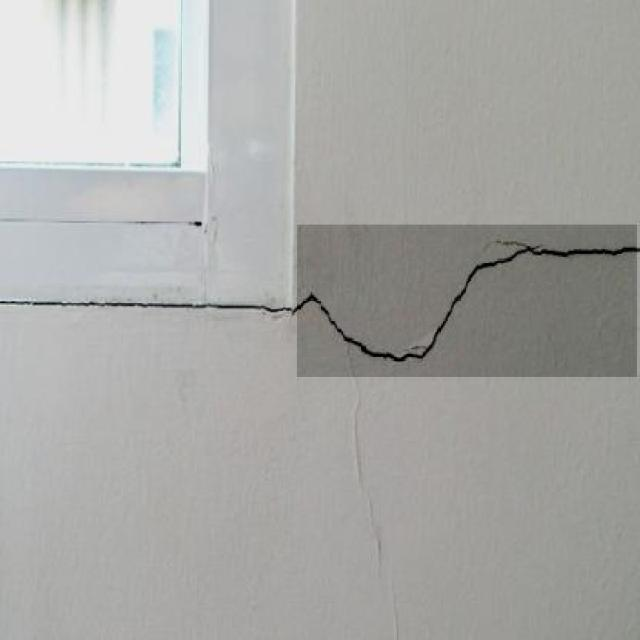SurfaceCrack: (286, 232, 640, 396)
